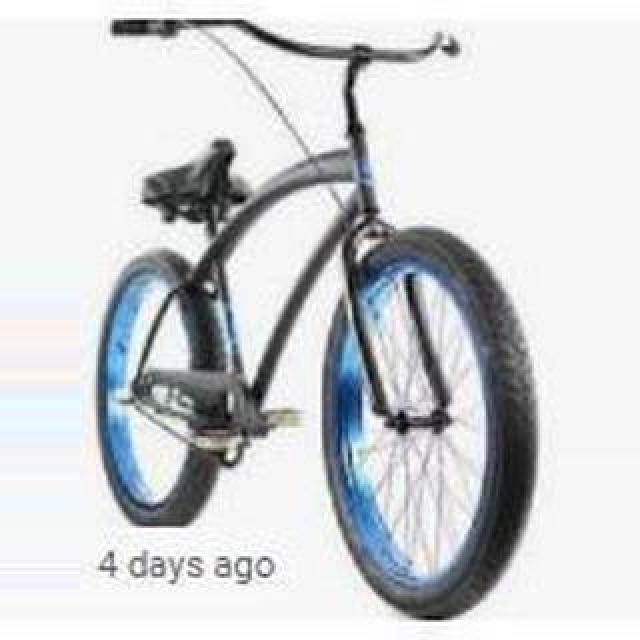Person: (88, 20, 536, 626)
